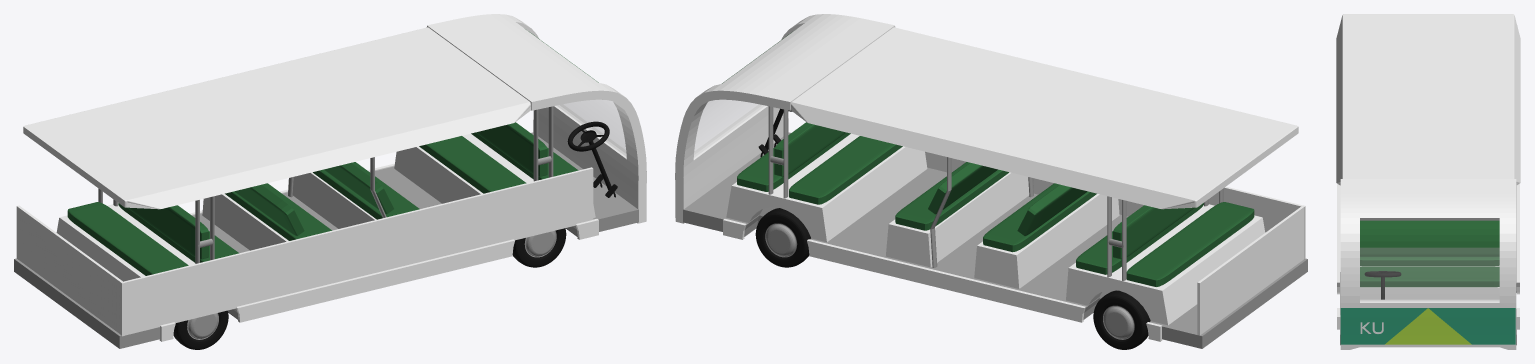
The model's file is KU_Bus_GLB.glb.
3 renders of one model, left to right at view 1: azimuth 30°, elevation 25°; view 2: azimuth 150°, elevation 25°; view 3: azimuth 270°, elevation 25°, orthographic. The views are drawn at different scales.
Visible parts, largest first — view 1: Roof, Rear Plate, Front Panel, Side Plate, Floor, Side Trim, Seat Bed.006, Seat Base Front Front, Wheel, Seat Bed.003, Seat Base Rear Rear, Seat Base Front Rear (+11 smaller); view 2: Roof, Front Panel, Floor, Seat Base Front Front, Seat Base Rear Rear, Side Plate, Side Trim, Seat Base Rear Front, Wheel, Seat Base Front Rear, Seat Bed.006, Seat Bed.003 (+13 smaller); view 3: Roof, Front Panel, Wind Shield, Seat Bed.004, Seat Base Front Front, Seat Bed.003, Seat Rest.001, Side Trim, Steering Wheel, Floor.
Part boxes in pixels (x1,y1,x2,y2): Roof: [23, 27, 530, 209]; Rear Plate: [120, 167, 593, 335]; Front Panel: [426, 14, 646, 223]; Side Plate: [16, 205, 124, 336]; Floor: [14, 132, 638, 348]; Side Trim: [159, 163, 598, 341]; Seat Bed.006: [67, 202, 188, 275]; Seat Base Front Front: [394, 133, 595, 217]; Wheel: [173, 228, 566, 349]; Seat Bed.003: [419, 136, 526, 193]; Seat Base Rear Rear: [56, 203, 195, 281]; Seat Base Front Rear: [292, 172, 376, 228]; Roof: [791, 27, 1298, 209]; Front Panel: [675, 14, 895, 223]; Floor: [683, 132, 1307, 348]; Seat Base Front Front: [726, 133, 927, 242]; Seat Base Rear Rear: [1066, 204, 1265, 325]; Side Plate: [1197, 205, 1304, 335]; Side Trim: [723, 219, 1162, 341]; Seat Base Rear Front: [974, 193, 1119, 288]; Wheel: [755, 208, 1150, 349]; Seat Base Front Rear: [885, 172, 1029, 267]; Seat Bed.006: [1126, 202, 1254, 286]; Seat Bed.003: [789, 136, 902, 204]; Roof: [1336, 14, 1520, 185]; Front Panel: [1340, 179, 1516, 349]; Wind Shield: [1360, 220, 1499, 300]; Seat Bed.004: [1360, 266, 1499, 287]; Seat Base Front Front: [1360, 265, 1499, 299]; Seat Bed.003: [1360, 256, 1499, 265]; Seat Rest.001: [1360, 247, 1499, 256]; Side Trim: [1337, 183, 1519, 329]; Steering Wheel: [1364, 271, 1401, 277]; Floor: [1340, 186, 1516, 345].
Size of the model in its own units: 15.81 by 4.87 by 5.7.
